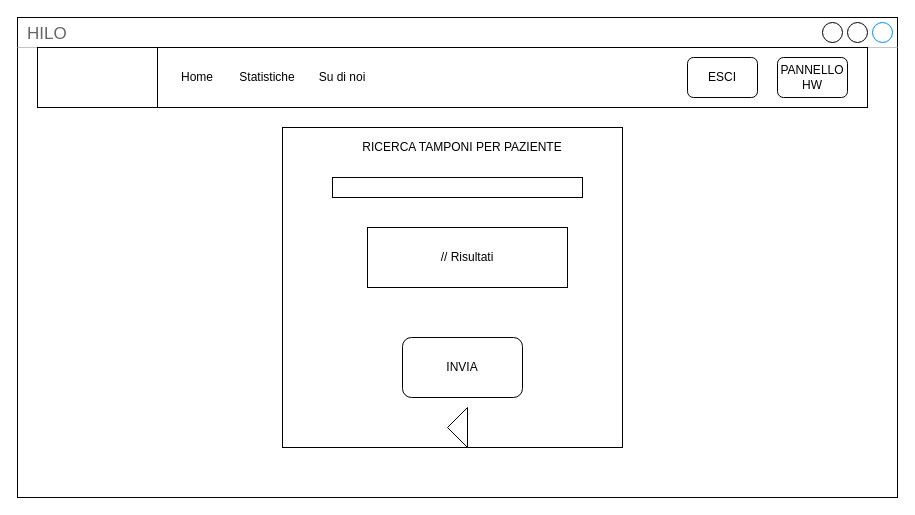
This 915x515 diagram has some shape labels left out. The box of each missing label's shape, as (x1, y1, x2, y2) in pixels:
C.F. PAZIENTE: (332, 176, 582, 198)
LOGO: (36, 46, 158, 108)
